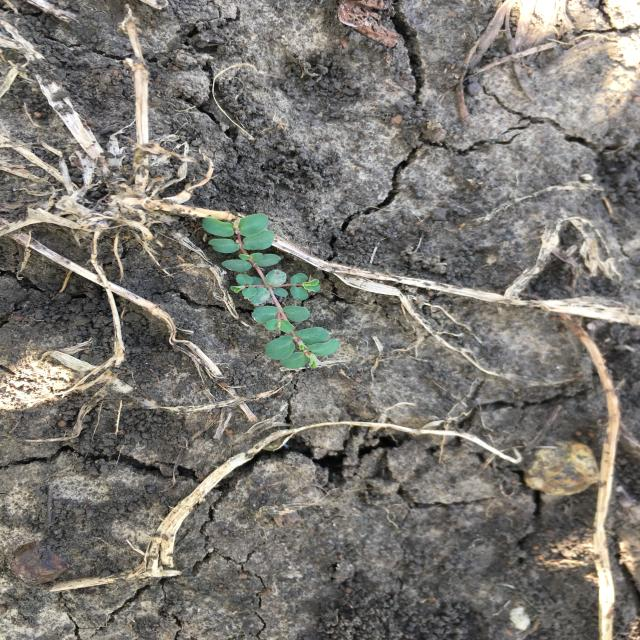SpottedSpurge: (200, 212, 344, 373)
